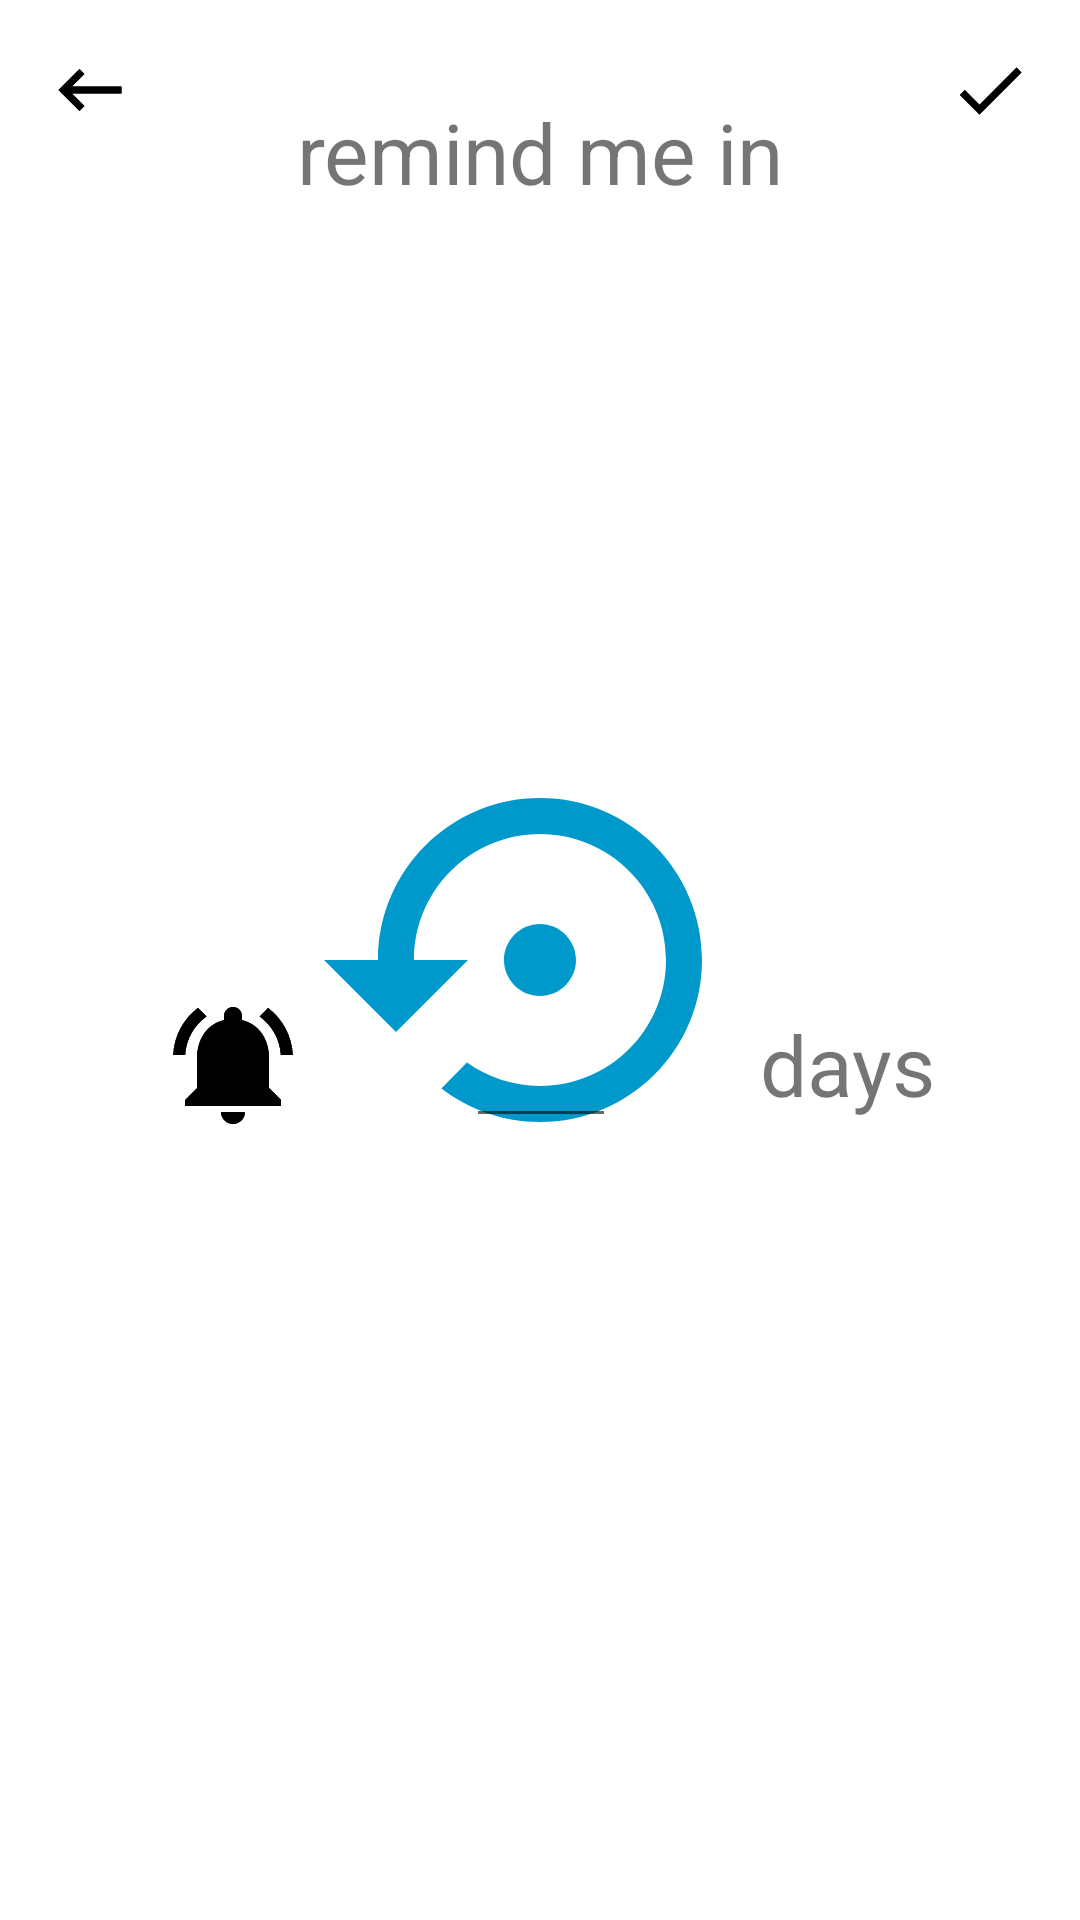

Screen size 1080x1920. Icon name, then its center in pixels as (x,y):
Go back: (90,90)
OK: (991,91)
